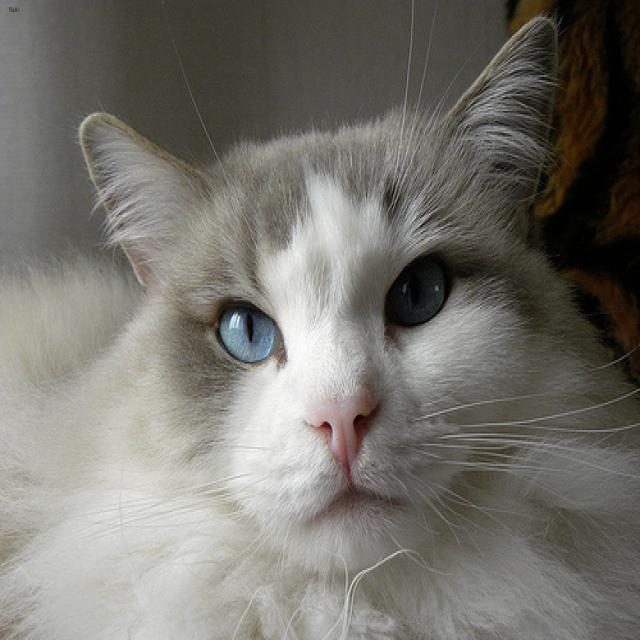Ragdoll: (70, 0, 561, 585)
